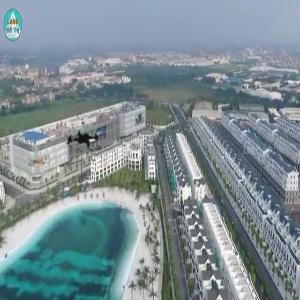drone: (58, 118, 109, 169)
